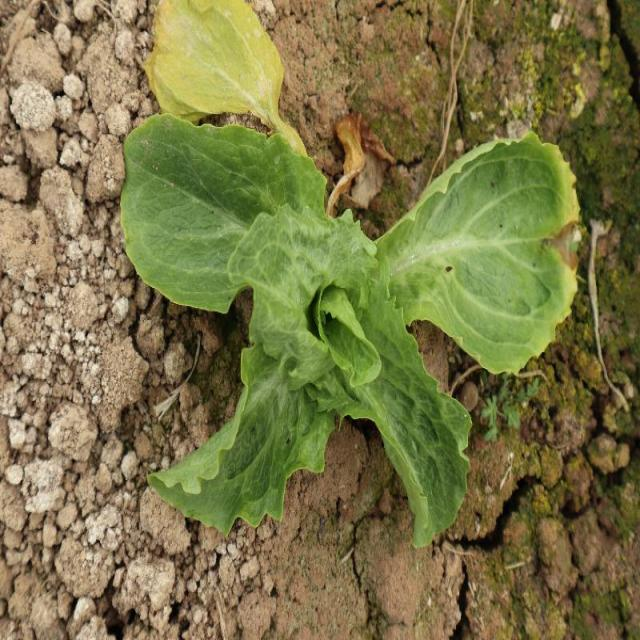crop: (117, 0, 581, 549)
